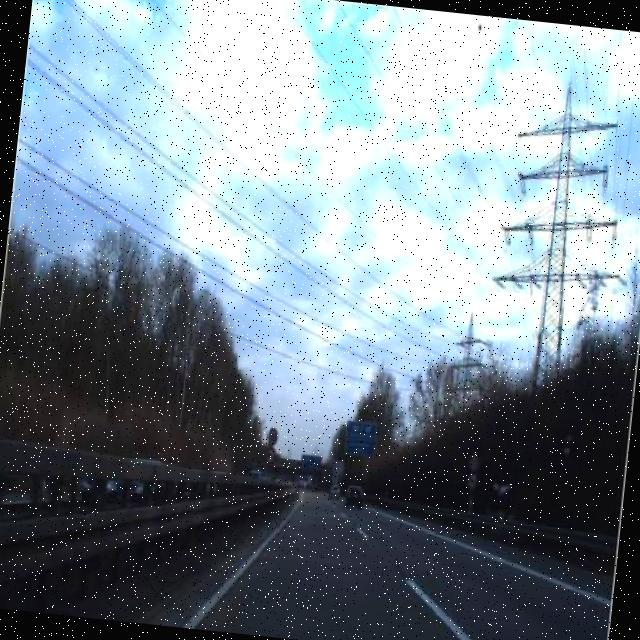Ograniczenie predkosci do 120: (466, 450, 482, 474), (266, 424, 282, 445)
Zakaz wyprzedzania: (262, 445, 278, 468), (464, 472, 478, 492)
